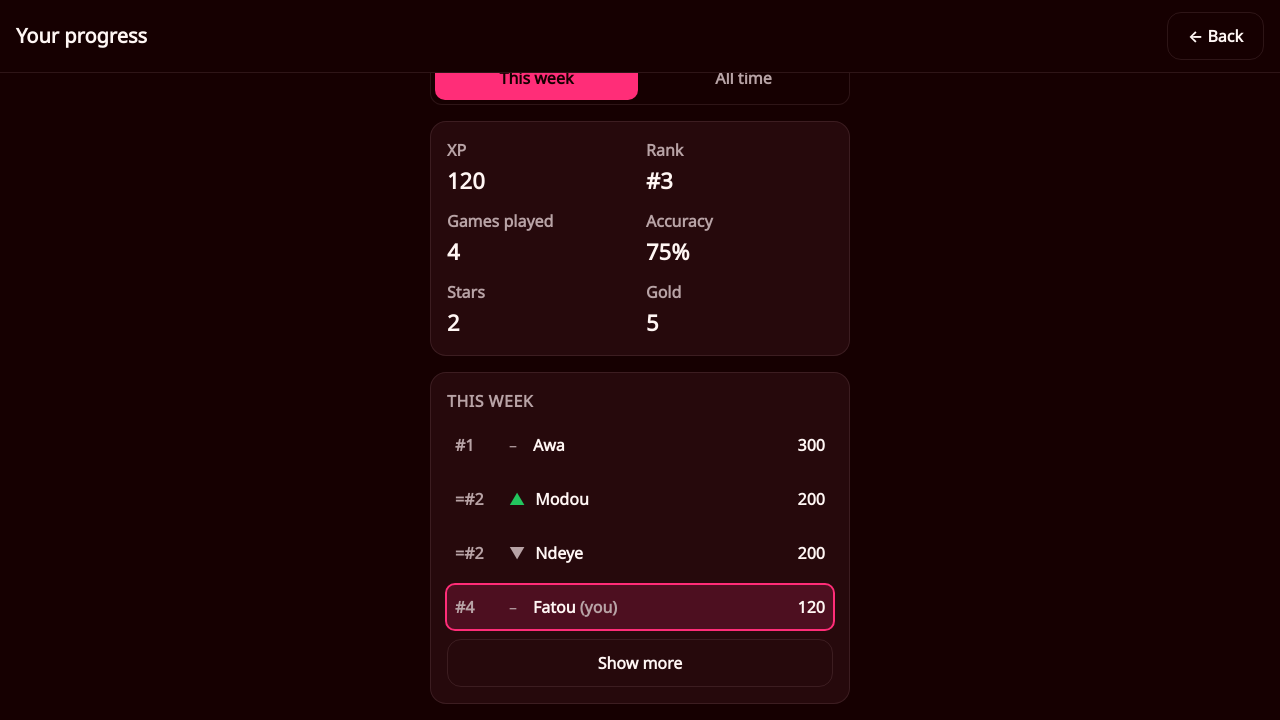
Test case: a period change invalidates board requests already in flight › drops a "load more" page that arrives after the player switched period
(page scrolled)
Expected: the text "Awa" is shown, [533,434,565,456]
# Ask for page 2 of the weekly board, then switch to all-time before it lands.
Step 1. Click the button "Show more" → (640, 663), box [447,639,833,687]
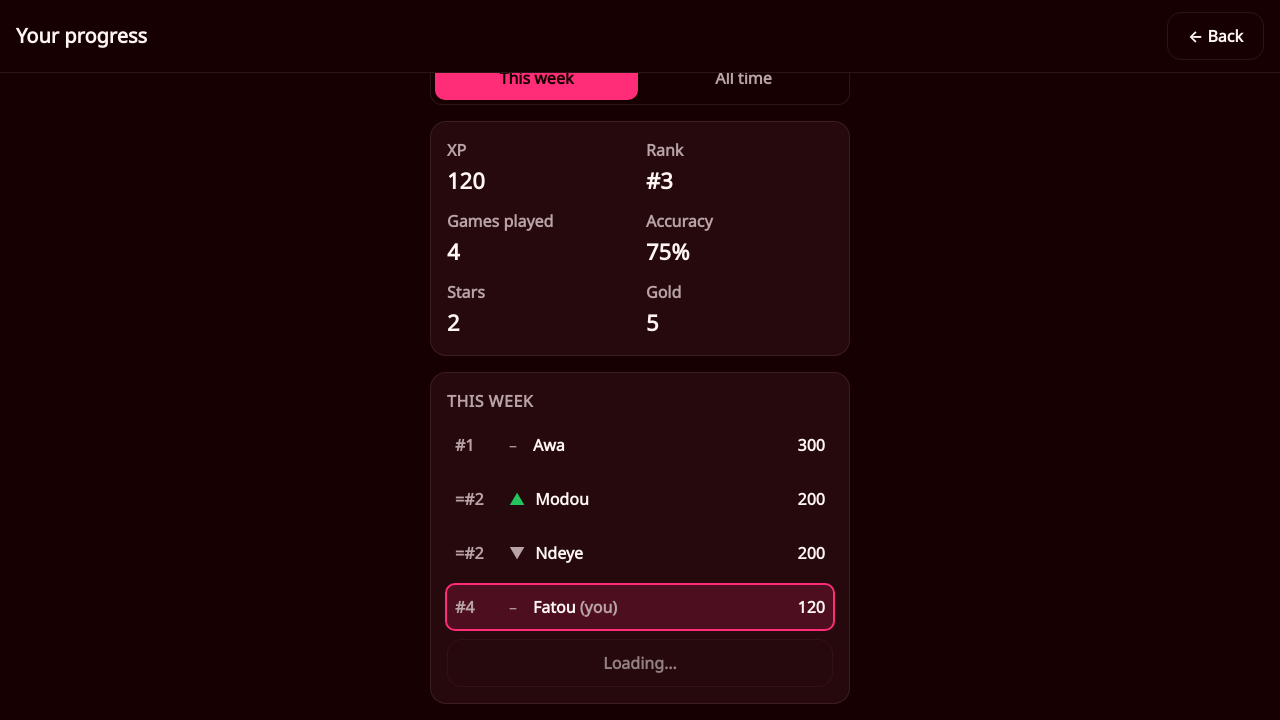
Step 2. Click the radio button "All time" → (744, 78), box [642,56,845,100]
(page scrolled)
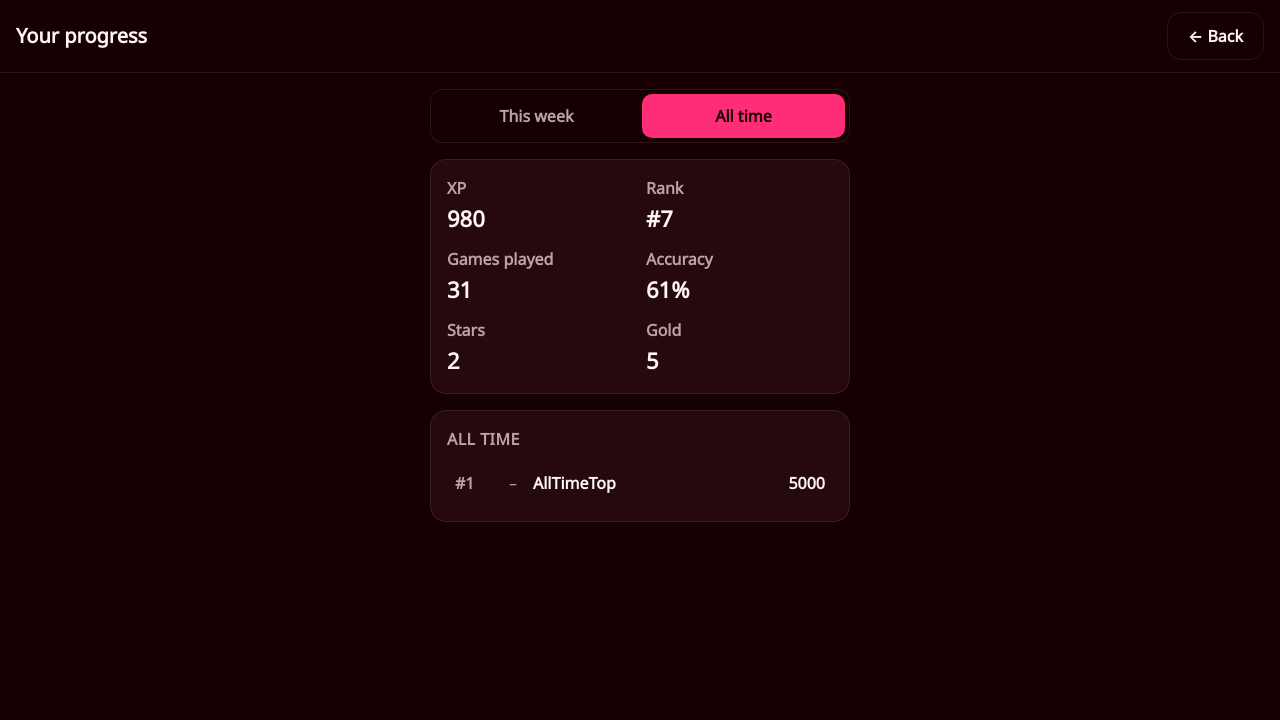
Expected: the button "Show more" is not shown
Expected: the text "AllTimeTop" is shown, [533,472,616,494]
